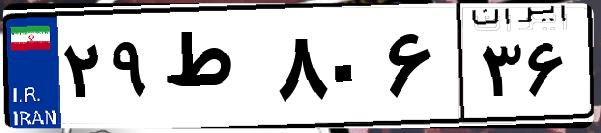0: (330, 28, 385, 110)
2: (57, 26, 110, 100)
3: (475, 38, 525, 113)
6: (385, 28, 445, 110), (525, 38, 570, 115)
8: (270, 28, 330, 110)
9: (110, 28, 158, 98)
ط: (158, 20, 270, 120)
